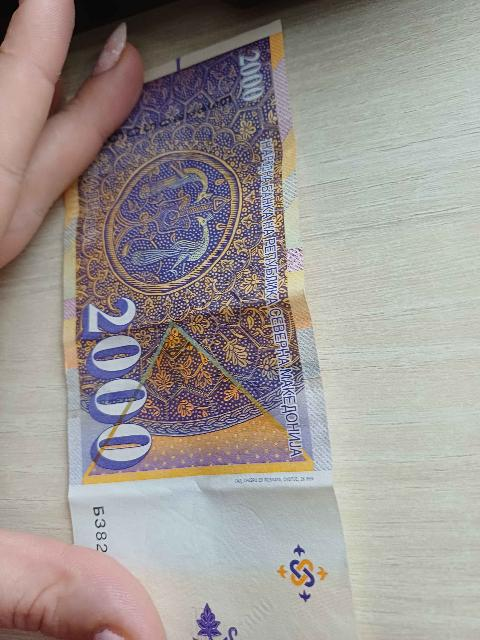note: (65, 24, 355, 639)
